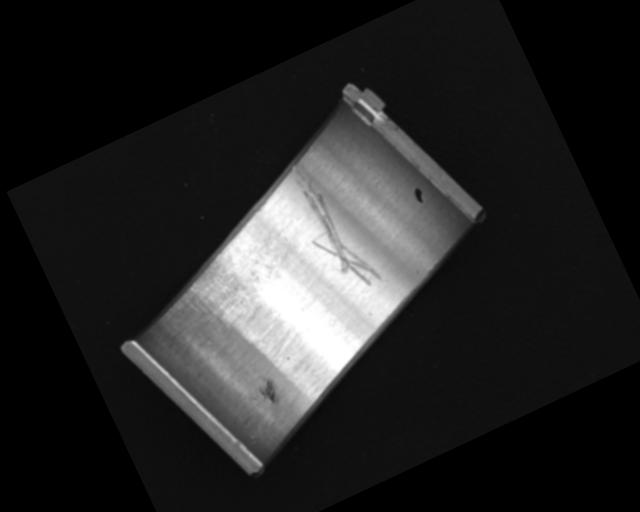blot: (411, 186, 427, 206)
bruise: (254, 376, 282, 409)
nick: (278, 150, 384, 301)
scratch: (156, 220, 302, 351)
